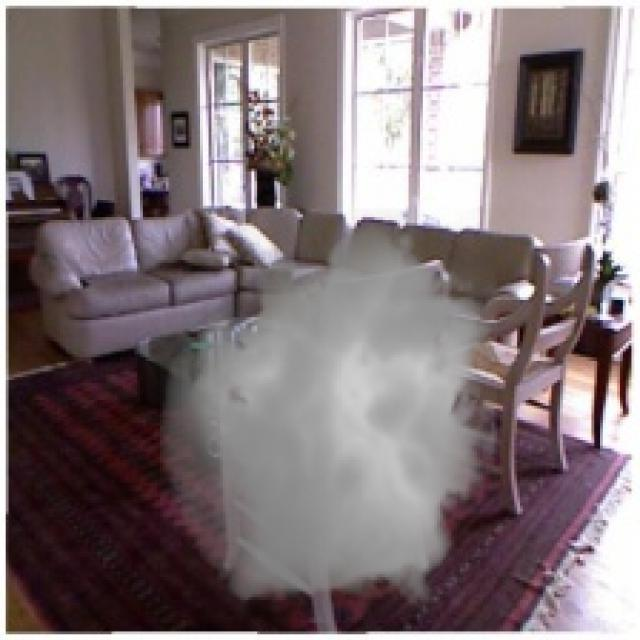Smoke: (148, 208, 512, 623)
